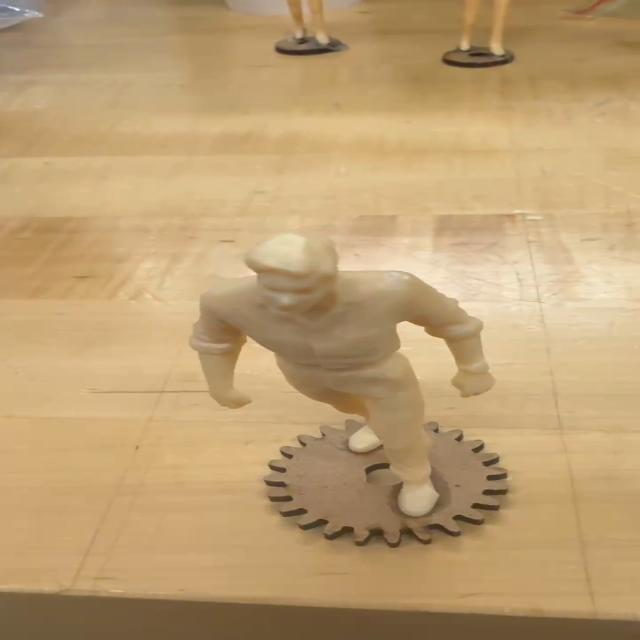Unauthorized: (148, 230, 507, 529)
